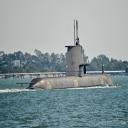submarine: (17, 22, 115, 94)
